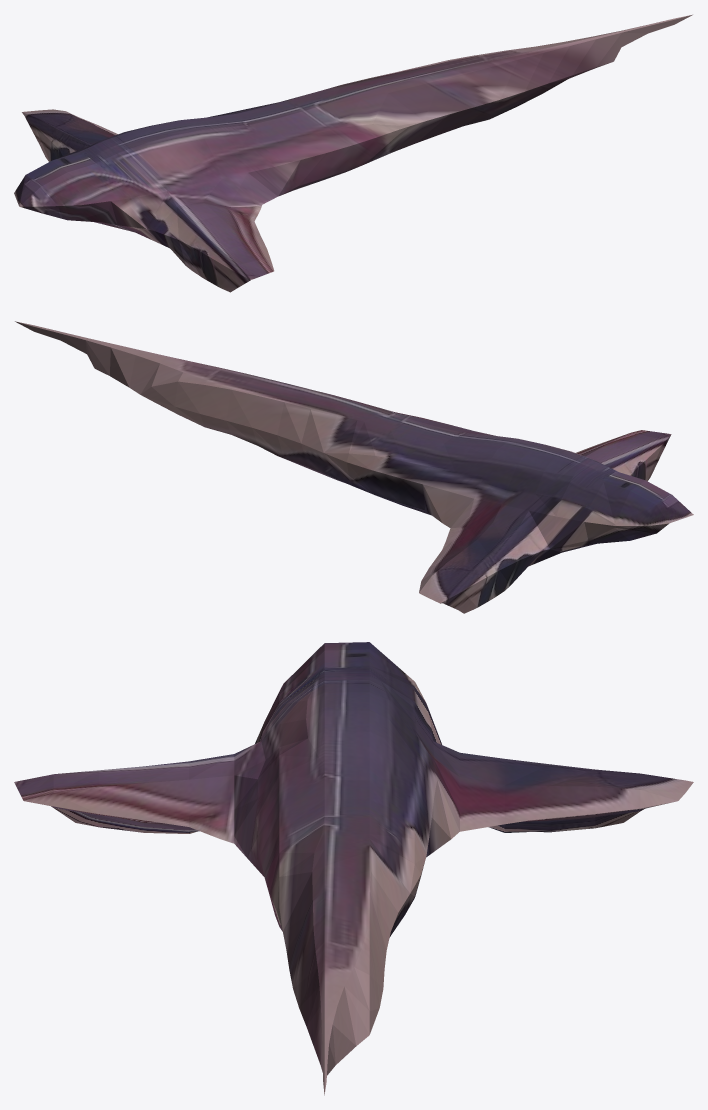
The model's file is enemy.obj.
The picture shows the model from 3 angles, top to bottom: view 1: azimuth 30°, elevation 25°; view 2: azimuth 150°, elevation 25°; view 3: azimuth 270°, elevation 25°; orthographic projection. The views are drawn at different scales.
Visible parts, largest first — view 1: 90c3175f-8fe6-430f-867f-562df84388a0_90c3175f-8fe6-430f-867f-562; view 2: 90c3175f-8fe6-430f-867f-562df84388a0_90c3175f-8fe6-430f-867f-562; view 3: 90c3175f-8fe6-430f-867f-562df84388a0_90c3175f-8fe6-430f-867f-562.
Part boxes in pixels (box(x1,y1,x2,y2)): 90c3175f-8fe6-430f-867f-562df84388a0_90c3175f-8fe6-430f-867f-562: box(14, 14, 692, 292); 90c3175f-8fe6-430f-867f-562df84388a0_90c3175f-8fe6-430f-867f-562: box(15, 321, 693, 613); 90c3175f-8fe6-430f-867f-562df84388a0_90c3175f-8fe6-430f-867f-562: box(14, 642, 693, 1095).
Size of the model in its own units: 8.41 by 1.14 by 4.96.
Materials: 1 (1 with a texture image).
